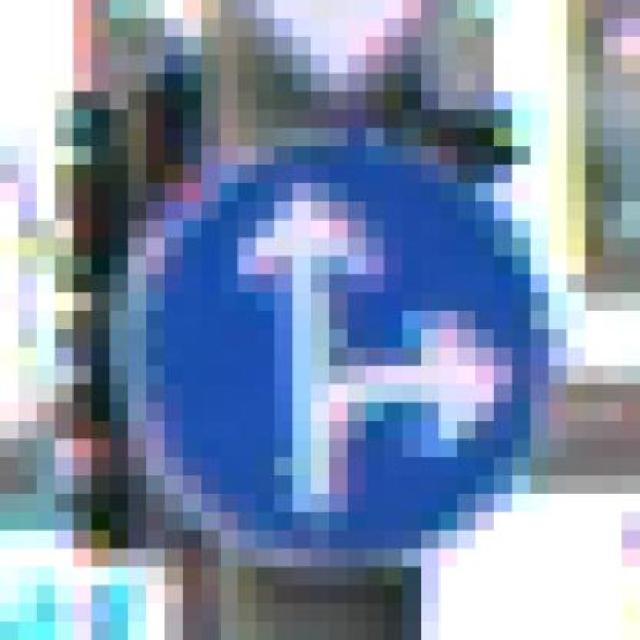Go Straight or Turn Right: (91, 110, 567, 585)
